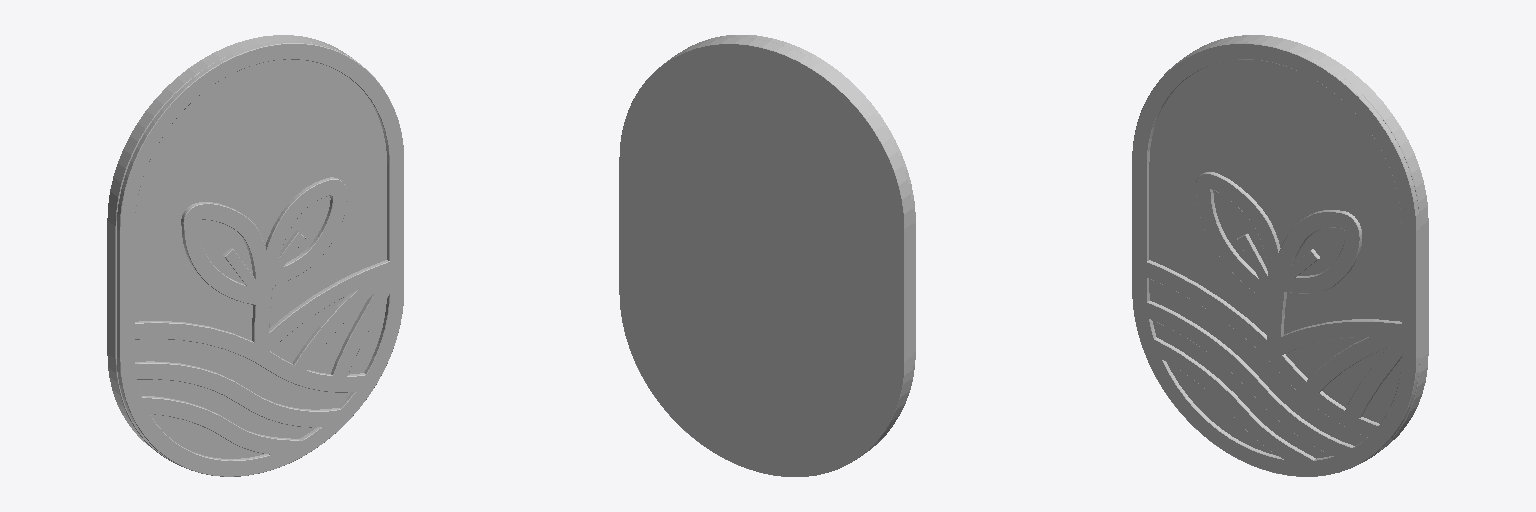
Rendered from xunzhang.obj.
3 renders of one model, left to right at view 1: azimuth 30°, elevation 25°; view 2: azimuth 150°, elevation 25°; view 3: azimuth 330°, elevation 25°, orthographic.
Size of the model in its own units: 179 by 256 by 13.15.